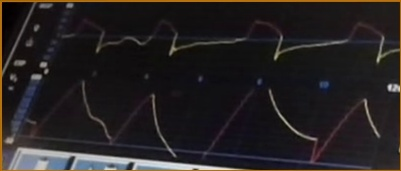Ineffective_effort Flow: (61, 11, 400, 63)
Ineffective_effort Volume: (26, 80, 379, 163)
